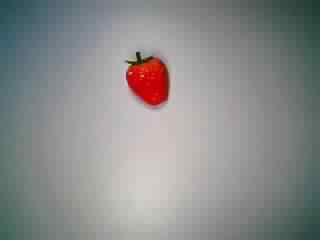strawberry: (119, 46, 181, 110)
